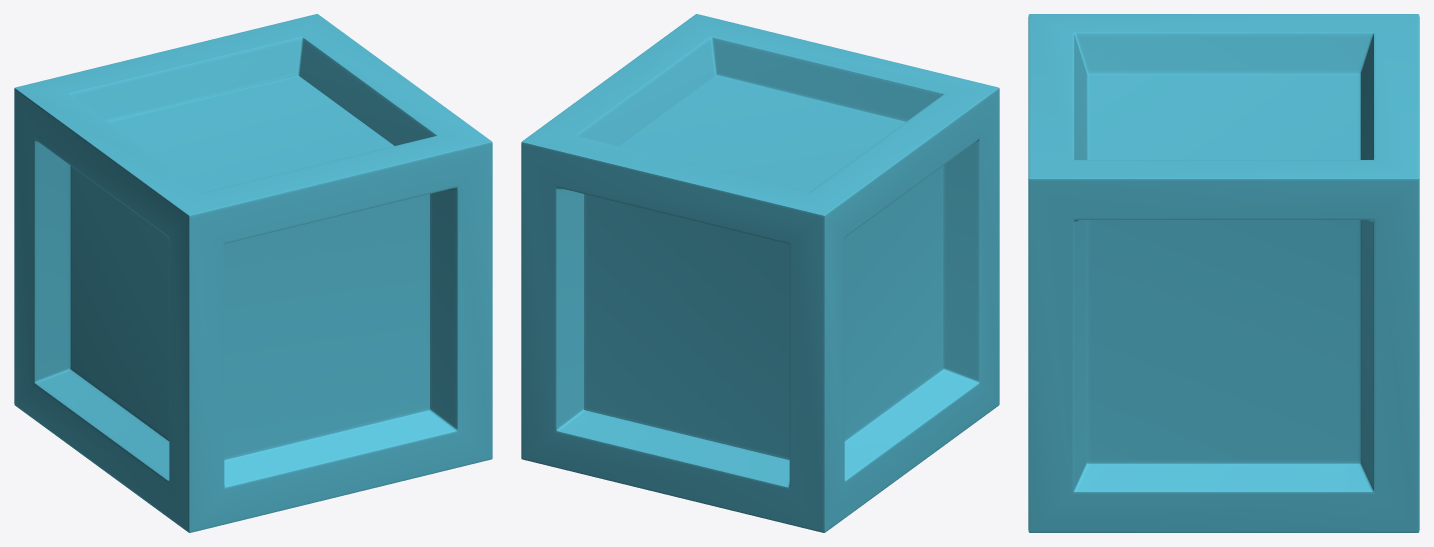
File: block2Updated.FBX
3 renders of one model, left to right at view 1: azimuth 30°, elevation 25°; view 2: azimuth 150°, elevation 25°; view 3: azimuth 270°, elevation 25°, orthographic. The views are drawn at different scales.
Visible parts, largest first — view 1: Box001; view 2: Box001; view 3: Box001.
Part boxes in pixels (left/top/right/bottom): Box001: left=14, top=14, right=492, bottom=532; Box001: left=521, top=14, right=999, bottom=532; Box001: left=1028, top=14, right=1419, bottom=532.
Bounding box in the file's own units: 76.2 × 76.2 × 76.2.
